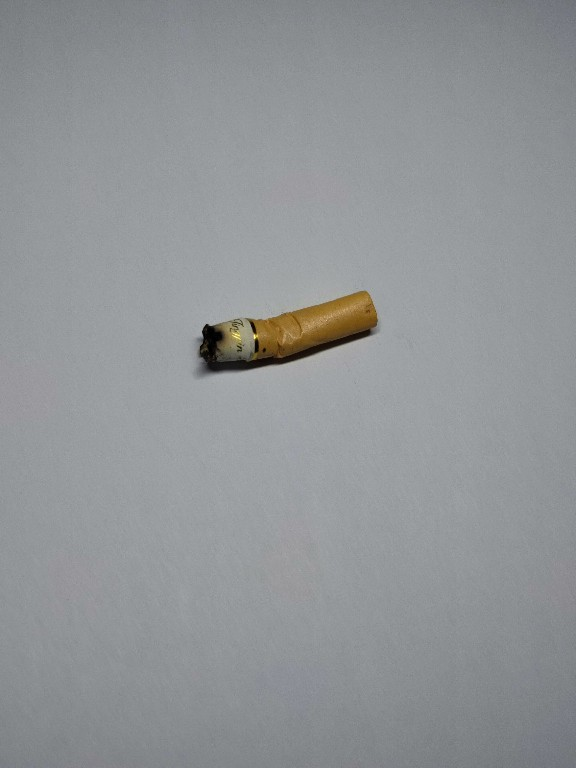cigarette: (198, 286, 381, 378)
